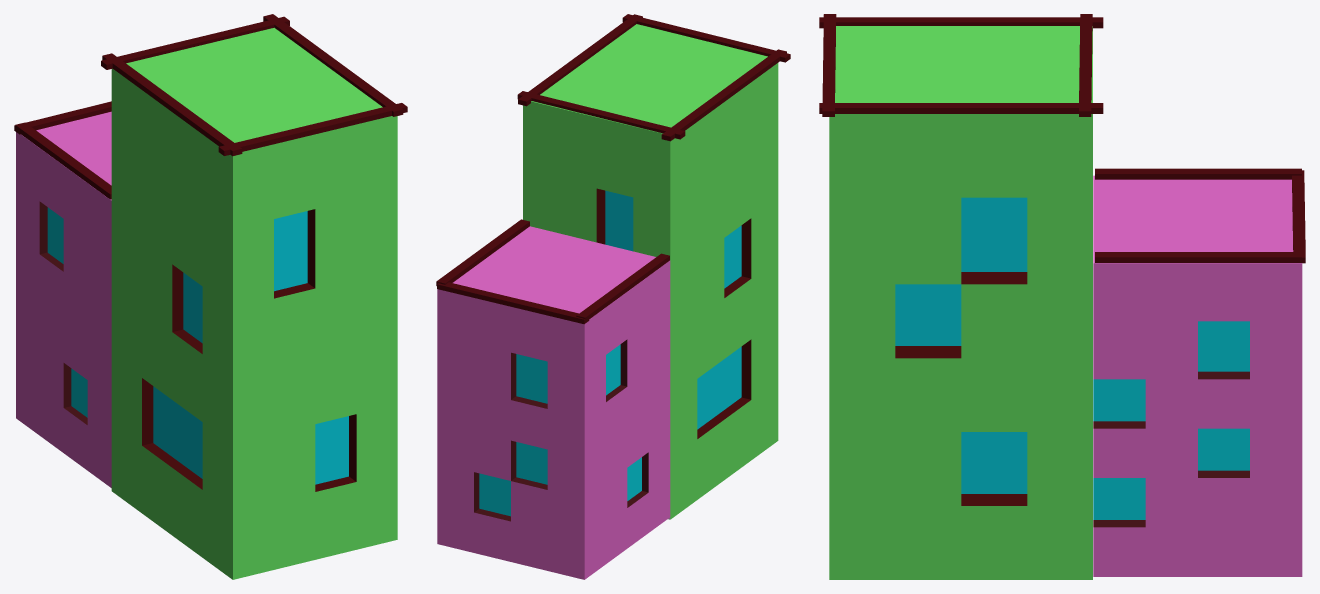
File: building 1 (green,pink).fbx
The picture shows the model from 3 angles, left to right: view 1: azimuth 30°, elevation 25°; view 2: azimuth 150°, elevation 25°; view 3: azimuth 270°, elevation 25°; orthographic projection. The views are drawn at different scales.
Visible parts, largest first — view 1: Cube.001, Cube, Cube.006, Cube.007, Cube.005, Cube.008, Cube.003, Cube.004; view 2: Cube.001, Cube, Cube.006, Cube.004, Cube.005, Cube.007, Cube.008, Cube.003, Cube.002; view 3: Cube.001, Cube, Cube.005, Cube.006, Cube.003, Cube.002, Cube.007, Cube.008, Cube.004.
Boxes of the visible parts, x1,y1,x2,y2 form: Cube.001: (111,27,397,579); Cube: (16,111,111,487); Cube.006: (102,53,242,156); Cube.007: (218,103,407,155); Cube.005: (263,14,403,116); Cube.008: (101,16,289,69); Cube.003: (15,122,111,199); Cube.004: (14,101,111,134); Cube.001: (523,24,778,519); Cube: (437,226,670,579); Cube.006: (661,49,786,141); Cube.004: (437,282,589,324); Cube.005: (518,14,642,106); Cube.007: (622,14,790,62); Cube.008: (517,91,685,139); Cube.003: (576,253,669,321); Cube.002: (436,219,529,285); Cube.001: (829,26,1092,579); Cube: (1093,175,1302,576); Cube.005: (819,103,1103,113); Cube.006: (819,17,1103,28); Cube.003: (1095,168,1301,179); Cube.002: (1095,252,1301,262); Cube.007: (822,14,836,116); Cube.008: (1079,14,1092,116); Cube.004: (1292,170,1305,263).
Size of the model in its own units: 1511 by 3425 by 3198.
